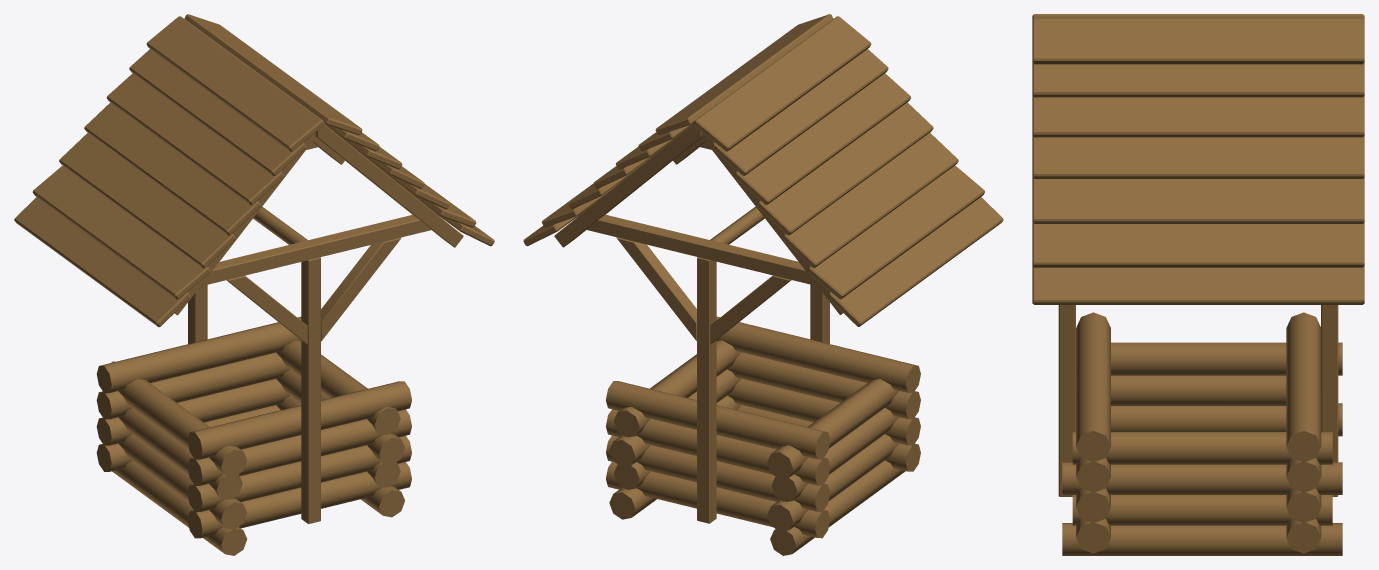
The model's file is Villagewell.fbx.
3 renders of one model, left to right at view 1: azimuth 30°, elevation 25°; view 2: azimuth 150°, elevation 25°; view 3: azimuth 270°, elevation 25°, orthographic. The views are drawn at different scales.
Parts seen in each view (by area): view 1: Object, Object.004, Object.002, Object.005, Object.009, Object.010, Object.008, Object.007, Object.012, Object.001, Object.011, Object.003 (+8 smaller); view 2: Object, Object.004, Object.002, Object.009, Object.005, Object.008, Object.012, Object.014, Object.011, Object.001, Object.007, Object.019 (+8 smaller); view 3: Object.002, Object.018, Object.016, Object.013, Object.015, Object.001, Object.017, Object.004, Object.009, Object.005, Object.019, Object (+6 smaller).
Boxes of the visible parts, x1,y1,x2,y2 form: Object: (14,16,324,327); Object.004: (174,124,463,523); Object.002: (184,14,494,246); Object.005: (187,381,411,459); Object.009: (96,316,301,393); Object.010: (187,462,411,538); Object.008: (187,409,411,485); Object.007: (187,435,411,512); Object.012: (96,352,290,419); Object.001: (111,361,247,476); Object.011: (96,379,290,445); Object.003: (112,460,247,555); Object: (693,16,1003,326); Object.004: (554,124,842,523); Object.002: (523,14,833,246); Object.009: (606,381,830,459); Object.005: (716,316,920,392); Object.008: (727,352,920,419); Object.012: (606,409,830,485); Object.014: (606,462,830,538); Object.011: (606,435,830,511); Object.001: (767,379,898,479); Object.007: (727,378,920,445); Object.019: (767,434,898,531); Object.002: (1032,18,1364,304); Object.018: (1062,523,1342,555); Object.016: (1062,462,1342,494); Object.013: (1072,432,1332,464); Object.015: (1072,495,1332,525); Object.001: (1111,342,1342,375); Object.017: (1111,375,1286,405); Object.004: (1058,305,1338,496); Object.009: (1286,312,1321,461); Object.005: (1076,312,1110,461); Object.019: (1111,403,1342,436); Object: (1032,14,1364,19).
Size of the model in its own units: 2202 by 2652 by 1616.
